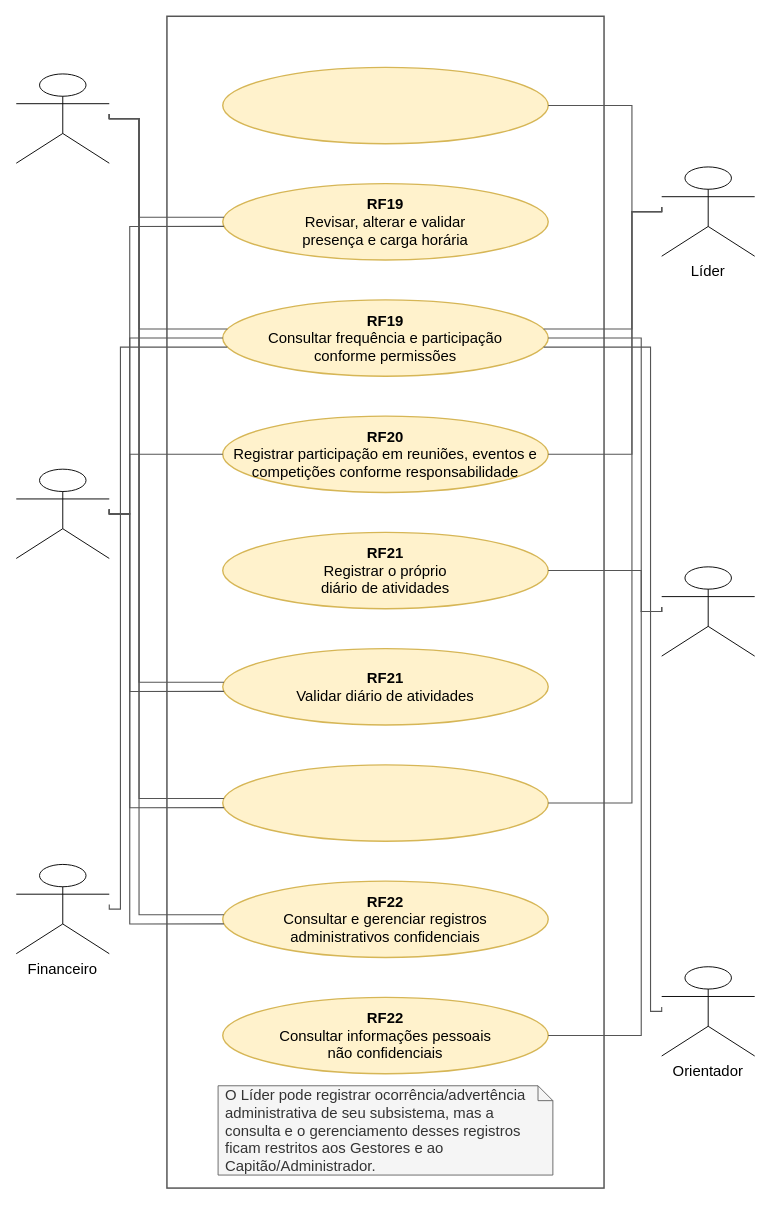
This 771x1205 diagram has some shape labels left out. Here are the shapes that lost their labels. From the top down, the box of each, then its label:
(15, 73, 109, 163): Capitão / Administrador
(222, 66, 549, 144): RF19 Registrar presença e carga horária do próprio subsistema
(15, 468, 109, 558): Gestor
(166, 15, 604, 1188): ERP PROCOBAJA
(661, 566, 755, 656): Membro
(222, 764, 549, 841): RF22 Registrar observações, ocorrências e advertências
